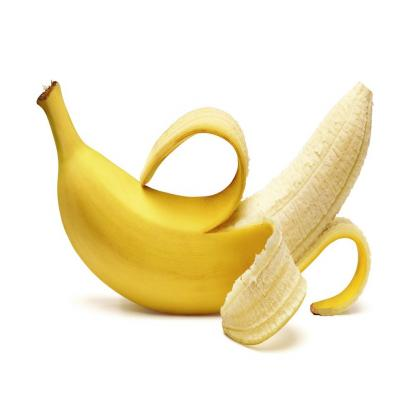banana: (55, 102, 383, 327)
